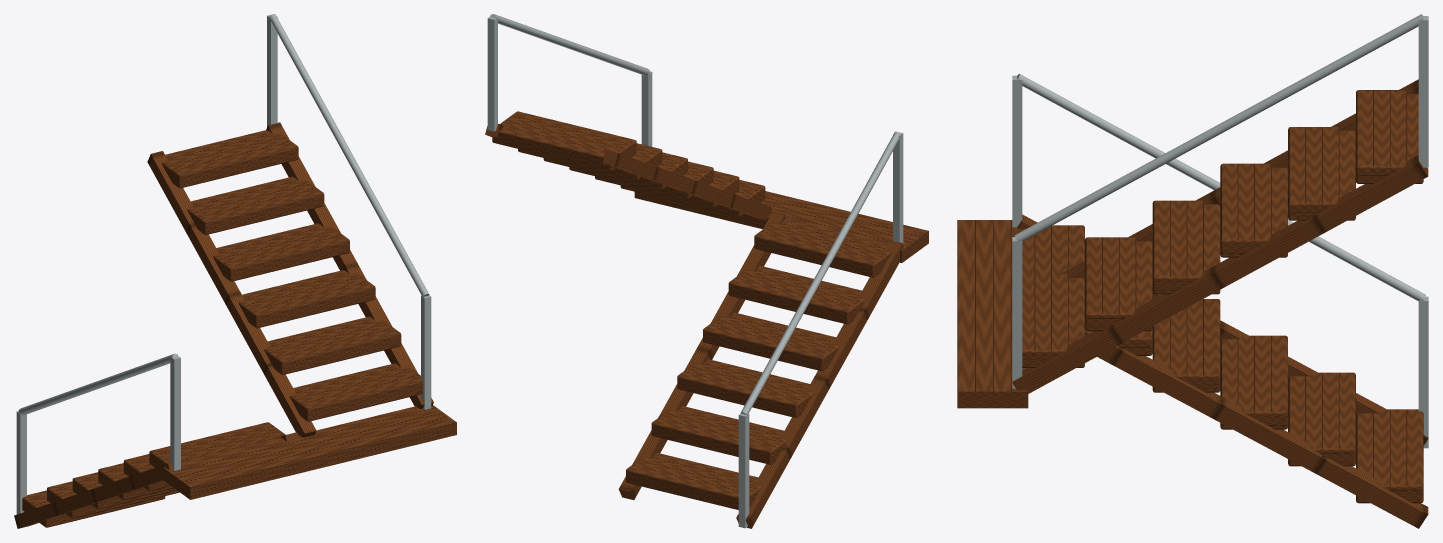
File: modular-survival-base-builder-switchback-stair-flight-b615090f__24189.glb
3 renders of one model, left to right at view 1: azimuth 30°, elevation 25°; view 2: azimuth 150°, elevation 25°; view 3: azimuth 270°, elevation 25°, orthographic. The views are drawn at different scales.
Visible parts, largest first — view 1: switchback-stair-flight; view 2: switchback-stair-flight; view 3: switchback-stair-flight.
Part boxes in pixels (bbox=[...]): switchback-stair-flight: bbox=[14, 14, 456, 528]; switchback-stair-flight: bbox=[485, 14, 928, 528]; switchback-stair-flight: bbox=[957, 14, 1428, 528].
Bounding box in the file's own units: 2 × 3.24 × 2.32.
Materials: 2 (1 with a texture image).
